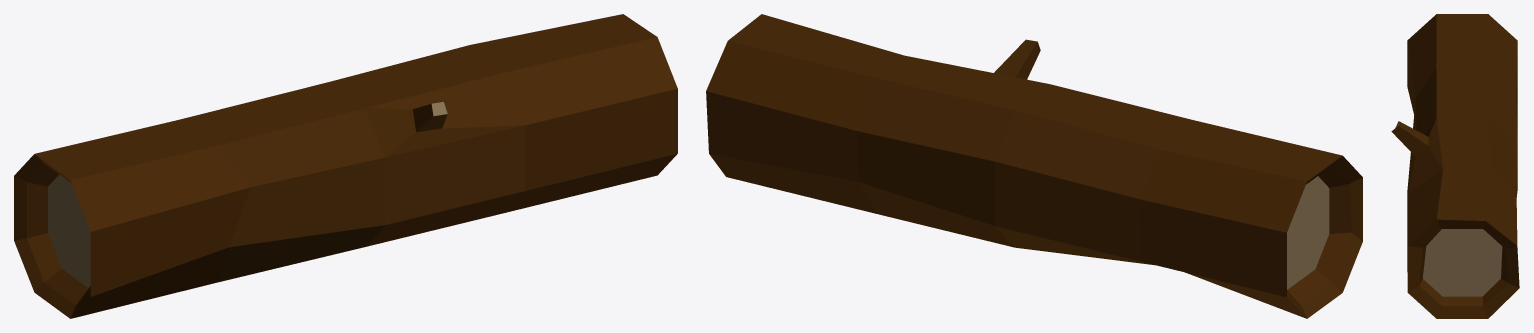
File: Log.fbx
The picture shows the model from 3 angles, left to right: view 1: azimuth 30°, elevation 25°; view 2: azimuth 150°, elevation 25°; view 3: azimuth 270°, elevation 25°; orthographic projection. The views are drawn at different scales.
Parts seen in each view (by area): view 1: Log; view 2: Log; view 3: Log.
Boxes of the visible parts, x1,y1,x2,y2 form: Log: [14, 14, 677, 318]; Log: [706, 14, 1362, 318]; Log: [1391, 14, 1519, 318].
Size of the model in its own units: 295 by 73.37 by 77.71.
